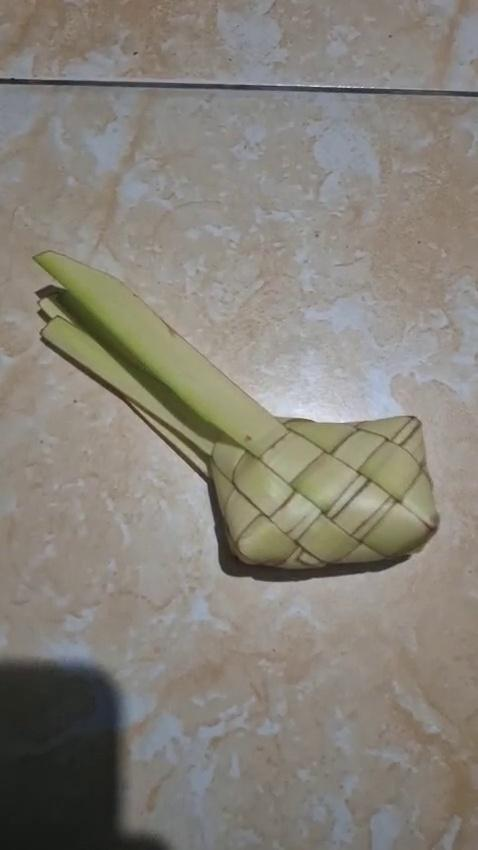Tipat Bantal: (33, 249, 440, 566)
